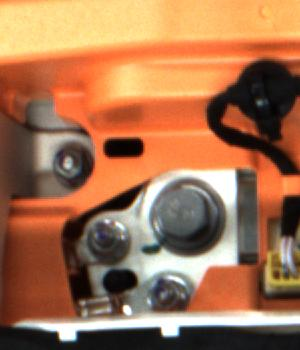nut_b: (152, 175, 229, 256)
screw_s: (145, 275, 190, 312), (89, 214, 128, 250), (52, 149, 88, 178)
